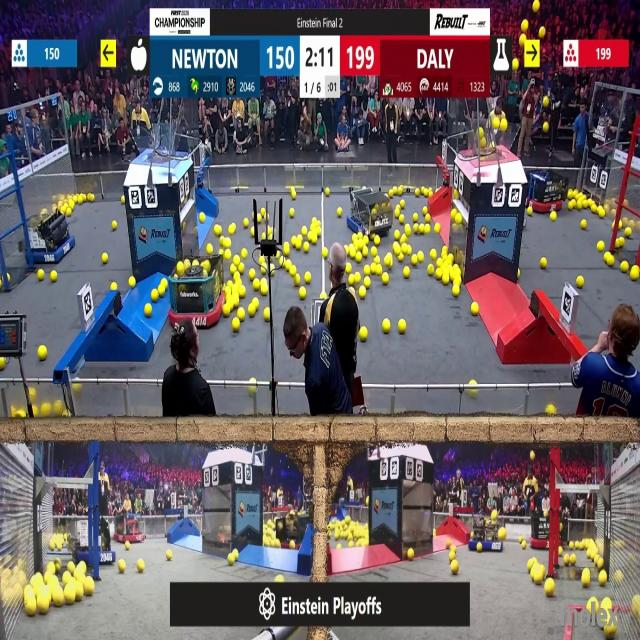ball_airborne: (532, 0, 540, 13), (522, 21, 529, 34), (499, 117, 506, 130), (492, 117, 500, 128), (513, 60, 520, 72), (538, 28, 545, 39), (542, 98, 548, 109), (520, 35, 526, 46), (542, 121, 548, 132), (530, 452, 535, 462), (480, 128, 485, 138), (481, 138, 486, 148)
ball_ground: (64, 586, 75, 604), (38, 597, 49, 614), (544, 580, 554, 598), (27, 600, 37, 617), (604, 625, 615, 640), (86, 580, 95, 597), (532, 569, 542, 584), (630, 267, 640, 281), (583, 570, 591, 587), (55, 403, 64, 417), (41, 405, 50, 418), (38, 346, 46, 360), (451, 561, 459, 575), (598, 571, 606, 585), (144, 304, 152, 318), (76, 587, 84, 601), (397, 320, 405, 333), (359, 327, 367, 340), (604, 252, 612, 265), (383, 319, 390, 333), (233, 319, 241, 331), (393, 243, 401, 255), (222, 305, 230, 317), (138, 560, 145, 573), (117, 560, 124, 573), (545, 407, 554, 417), (248, 307, 256, 318), (384, 254, 392, 265), (452, 285, 460, 296), (369, 265, 377, 276), (576, 276, 583, 288), (470, 304, 477, 316), (265, 309, 272, 321), (298, 287, 305, 299), (382, 274, 389, 286), (238, 308, 245, 320), (227, 554, 234, 566), (400, 244, 408, 254), (280, 258, 288, 268), (151, 289, 157, 302), (408, 550, 415, 561), (358, 287, 365, 298), (305, 273, 312, 284), (214, 224, 221, 235), (539, 257, 546, 268), (262, 284, 269, 295), (289, 266, 296, 277), (0, 357, 6, 369), (617, 239, 625, 248), (412, 254, 418, 266), (284, 244, 290, 256), (355, 273, 361, 285), (597, 242, 604, 252), (37, 271, 44, 281), (363, 267, 370, 277), (363, 278, 370, 288), (223, 250, 230, 260), (227, 224, 234, 234), (622, 264, 629, 274), (579, 219, 586, 229), (376, 266, 383, 276), (160, 286, 167, 296), (405, 224, 412, 234), (444, 276, 451, 286), (598, 209, 605, 219), (602, 599, 609, 609), (349, 249, 356, 259), (597, 559, 604, 569), (68, 562, 75, 572), (130, 277, 136, 288), (403, 268, 409, 279), (102, 252, 108, 263), (588, 601, 594, 612), (276, 574, 284, 582), (449, 552, 456, 561), (625, 229, 632, 238), (50, 272, 56, 282), (242, 248, 248, 258), (434, 270, 440, 280), (249, 270, 255, 280), (166, 551, 172, 561), (240, 287, 246, 297), (200, 212, 206, 222), (349, 276, 355, 286), (207, 244, 213, 254), (430, 249, 436, 259), (362, 247, 368, 257), (375, 236, 381, 246), (564, 556, 570, 566), (356, 252, 362, 262), (304, 243, 310, 253), (224, 238, 230, 248), (219, 238, 225, 248), (294, 275, 299, 287), (234, 551, 240, 561), (253, 280, 259, 290), (291, 237, 297, 247), (570, 555, 576, 565), (312, 235, 318, 245), (455, 214, 461, 224), (234, 296, 240, 306), (249, 386, 256, 394), (259, 233, 266, 241), (428, 266, 433, 277), (322, 248, 328, 257), (434, 223, 440, 232), (239, 265, 245, 274), (413, 213, 419, 222), (394, 232, 400, 241), (398, 214, 404, 223), (475, 542, 481, 551), (90, 192, 96, 201), (568, 201, 574, 210), (250, 229, 256, 238), (303, 225, 309, 234), (18, 411, 24, 420), (575, 201, 581, 210), (592, 205, 598, 214), (419, 252, 424, 262), (347, 265, 352, 275), (289, 208, 294, 218), (551, 212, 557, 220), (123, 541, 129, 549), (394, 209, 400, 217), (375, 256, 381, 264), (252, 296, 258, 304), (348, 540, 354, 548), (235, 272, 241, 280), (67, 208, 73, 216), (111, 282, 116, 291), (244, 218, 249, 227), (338, 208, 343, 217), (259, 255, 264, 264), (424, 223, 429, 232), (371, 247, 376, 256), (235, 255, 240, 264), (232, 266, 237, 275), (269, 225, 274, 234), (568, 189, 573, 198), (424, 215, 430, 222), (276, 250, 282, 257), (259, 267, 265, 274), (270, 266, 276, 273), (400, 235, 406, 242), (568, 541, 574, 548), (112, 220, 116, 230), (398, 254, 403, 262), (256, 214, 261, 222), (291, 190, 296, 198), (290, 540, 295, 548), (436, 261, 441, 269), (399, 201, 404, 209), (219, 248, 224, 256), (528, 560, 532, 570), (312, 216, 317, 224), (449, 254, 454, 262), (319, 291, 324, 299), (559, 546, 564, 554), (250, 378, 256, 384), (162, 279, 168, 285), (324, 188, 329, 195), (423, 208, 428, 215), (269, 233, 274, 240), (522, 540, 526, 548), (338, 542, 342, 550), (260, 208, 264, 216), (416, 188, 420, 196), (620, 220, 624, 228), (469, 381, 475, 386), (528, 208, 532, 215), (352, 235, 356, 242), (444, 247, 448, 254), (120, 197, 123, 205)
goal: (467, 128, 522, 160), (131, 131, 188, 160)
robot_blue: (26, 210, 74, 265), (73, 519, 115, 569), (346, 188, 384, 235), (468, 513, 506, 552), (276, 511, 308, 548)
robot_red: (168, 254, 225, 328), (527, 165, 568, 212), (114, 515, 144, 544), (529, 513, 551, 548)
